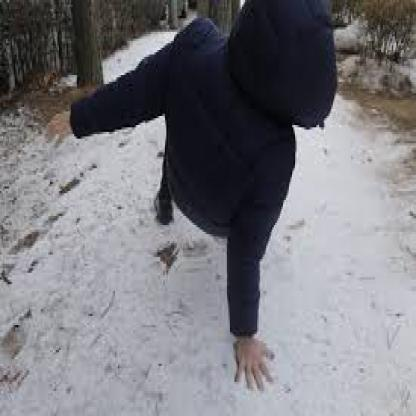Fall_Down: (39, 2, 339, 394)
